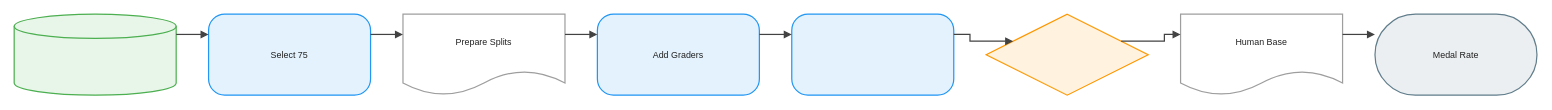
This 1552x110 diagram has some shape labels left out. The centre of each missing label's shape, as x and y in pixels:
Agent Runs: the point at 872,54
Kaggle Pool: the point at 94,54
Rule Checks: the point at 1066,54
